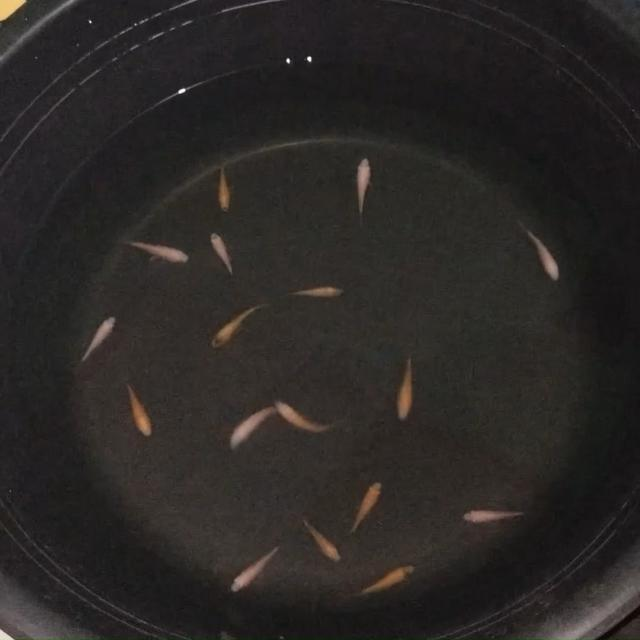nila: (346, 558, 419, 601), (209, 301, 269, 353), (224, 400, 280, 453), (72, 312, 118, 376), (230, 542, 284, 596), (524, 223, 564, 280), (346, 476, 384, 536), (274, 397, 339, 432), (300, 518, 346, 567), (123, 236, 194, 267), (126, 381, 156, 441), (394, 354, 416, 426), (208, 230, 238, 278), (354, 156, 373, 230), (462, 504, 532, 524), (288, 282, 346, 302), (215, 162, 233, 212)
